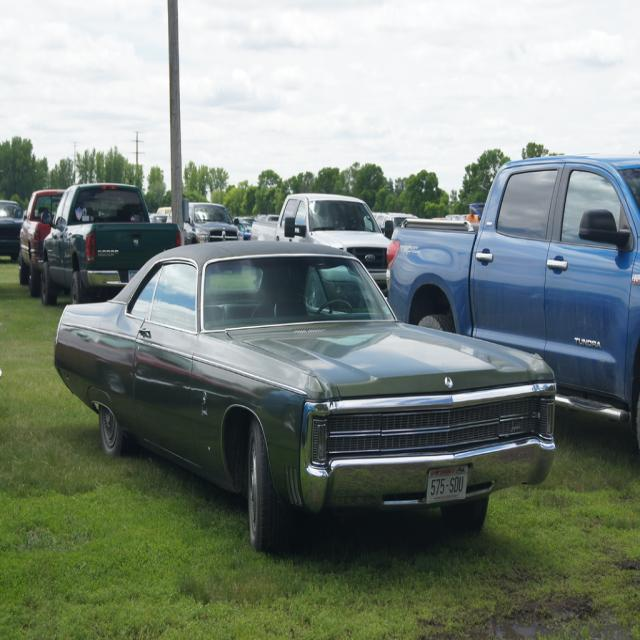car: (48, 225, 566, 553)
